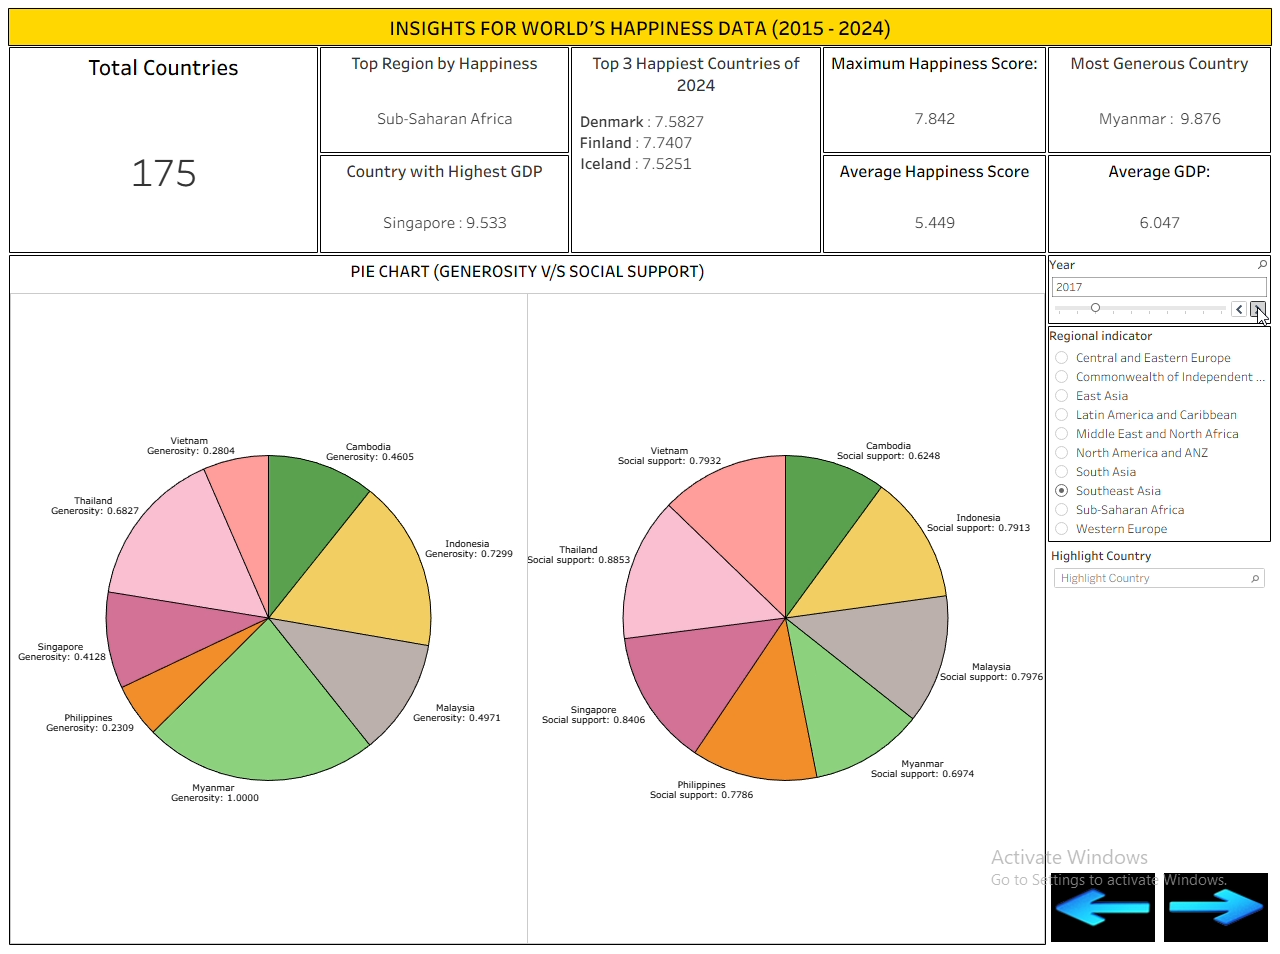

The dashboard page shown, as its layout file describes it:
{"tool":"tableau","page":{"name":"Dashboard 3","canvas":[1000,1000],"units":"permille","ordinal":2},"visuals":[{"type":"text","box":[6.2,8.4,987.5,40.1]},{"type":"image","param":"Image/happiness 1.png","box":[223.6,12.5,27.1,33.8]},{"type":"image","param":"Image/happiness 1.png","box":[749.3,12.5,27.1,33.8]},{"type":"worksheet","title":"Total Countries","mark":"Automatic","box":[6.2,48.5,242.8,217.5]},{"type":"worksheet","title":"Top Region by Happiness","mark":"Automatic","box":[249.1,48.5,196.4,113.2]},{"type":"worksheet","title":"Top 3 Happiest Countries of 2024","mark":"Text","box":[445.5,48.5,196.5,217.5]},{"type":"worksheet","title":"Maximum Happiness Score","mark":"Automatic","box":[642,48.5,175.8,113.2]},{"type":"worksheet","title":"Most Generous Country","mark":"Automatic","box":[817.9,48.5,175.9,113.2]},{"type":"worksheet","title":"Country with Highest GDP","mark":"Automatic","box":[249.1,161.7,196.4,104.3]},{"type":"worksheet","title":"Average Happiness Score","mark":"Automatic","box":[642,161.7,175.8,104.3]},{"type":"worksheet","title":"Average GDP","mark":"Automatic","box":[817.9,161.7,175.9,104.3]},{"type":"worksheet","title":"Pie Chart (Outer - Generosity, Inner - Social Support)","mark":"Pie","cols":["Calculation_840484312201113614","Calculation_840484312201113614"],"box":[6.2,266.1,812.1,725.6]},{"type":"filter","title":"Pie Chart (Outer - Generosity, Inner - Social Support)","param":"[federated.0bmoz6j1ncyzlt1dp10531xplwxu (copy 2)].[none:Year:ok]","box":[818.3,266.1,175.4,74.4]},{"type":"filter","title":"Pie Chart (Outer - Generosity, Inner - Social Support)","param":"[federated.0bmoz6j1ncyzlt1dp10531xplwxu].[none:Regional indicator:nk]","box":[818.3,340.5,175.4,228.5]},{"type":"highlighter","title":"Pie Chart (Outer - Generosity, Inner - Social Support)","param":"[federated.0bmoz6j1ncyzlt1dp10531xplwxu (copy 2)].[none:Country:nk]","box":[818.3,569,175.4,54.5]},{"type":"dashboard-object","box":[818.3,911.1,87.7,80.5]},{"type":"dashboard-object","box":[906,911.1,87.7,80.5]}]}

Visuals, with their boxes on the dashboard's canvas, which has no fixed pixel size, in thousandths of its width and height (x1, y1, x2, y2). These are canvas units, not pixel positions in the 1280x954 screenshot, which may show the page scaled, cropped or inside an application window:
text: box(6, 8, 994, 48)
image: box(224, 12, 251, 46)
image: box(749, 12, 776, 46)
"Total Countries" worksheet: box(6, 48, 249, 266)
"Top Region by Happiness" worksheet: box(249, 48, 446, 162)
"Top 3 Happiest Countries of 2024" worksheet (Text marks): box(446, 48, 642, 266)
"Maximum Happiness Score" worksheet: box(642, 48, 818, 162)
"Most Generous Country" worksheet: box(818, 48, 994, 162)
"Country with Highest GDP" worksheet: box(249, 162, 446, 266)
"Average Happiness Score" worksheet: box(642, 162, 818, 266)
"Average GDP" worksheet: box(818, 162, 994, 266)
"Pie Chart (Outer - Generosity, Inner - Social Support)" worksheet (Pie marks): box(6, 266, 818, 992)
"Pie Chart (Outer - Generosity, Inner - Social Support)" filter: box(818, 266, 994, 340)
"Pie Chart (Outer - Generosity, Inner - Social Support)" filter: box(818, 340, 994, 569)
"Pie Chart (Outer - Generosity, Inner - Social Support)" highlighter: box(818, 569, 994, 624)
dashboard-object: box(818, 911, 906, 992)
dashboard-object: box(906, 911, 994, 992)
